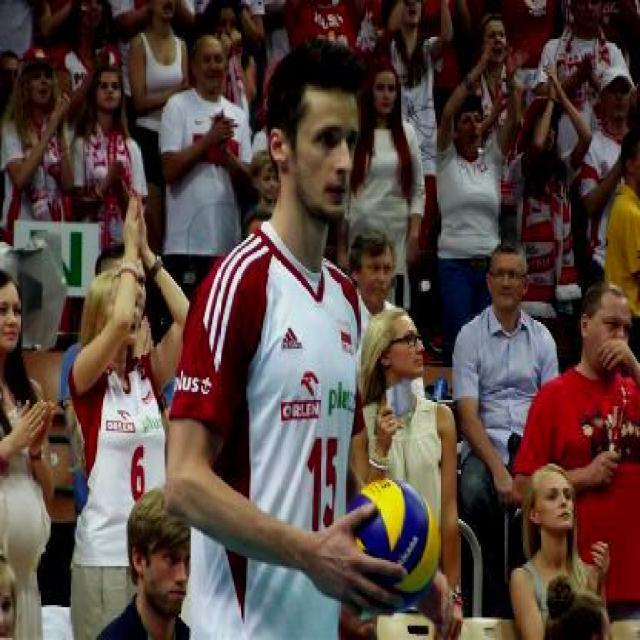volleyball: (344, 480, 440, 612)
